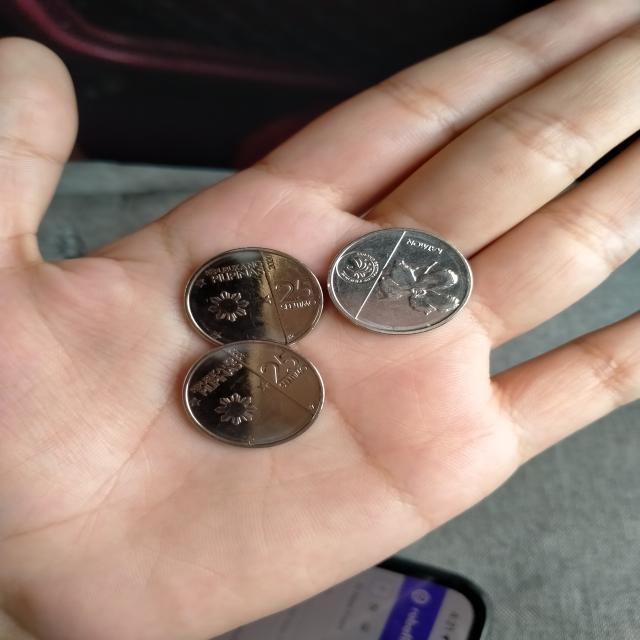25Cent_New_Back: (386, 253, 456, 321)
25Cent_New_Front: (275, 274, 321, 316), (253, 348, 302, 380)
